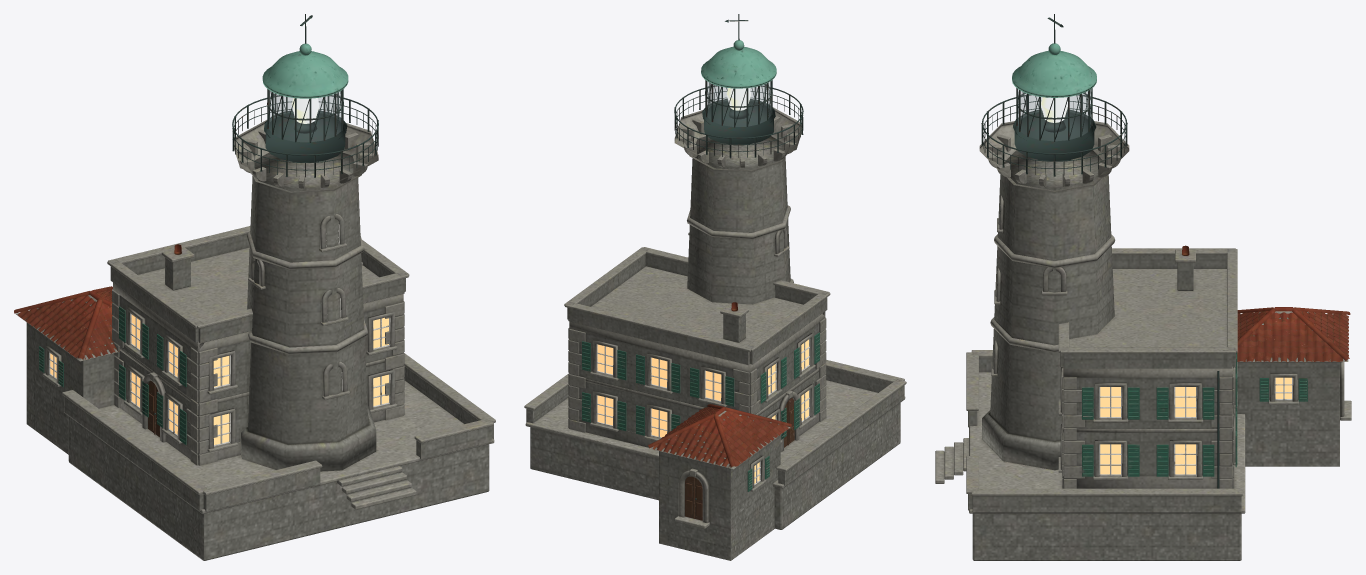
File: faro.glb
The picture shows the model from 3 angles, left to right: view 1: azimuth 30°, elevation 25°; view 2: azimuth 150°, elevation 25°; view 3: azimuth 270°, elevation 25°; orthographic projection. The views are drawn at different scales.
Visible parts, largest first — view 1: FaroStone, FaroPaint, FaroTile, FaroWindows, FaroLanternGlass; view 2: FaroStone, FaroPaint, FaroTile, FaroWindows, FaroLanternGlass; view 3: FaroStone, FaroPaint, FaroTile, FaroWindows, FaroLanternGlass, FaroLens.
Boxes of the visible parts, x1=… form: FaroStone: x1=16, y1=120, x2=495, y2=560; FaroPaint: x1=39, y1=14, x2=390, y2=446; FaroTile: x1=14, y1=244, x2=181, y2=359; FaroWindows: x1=50, y1=314, x2=388, y2=444; FaroLanternGlass: x1=269, y1=90, x2=340, y2=141; FaroStone: x1=524, y1=107, x2=906, y2=560; FaroPaint: x1=582, y1=14, x2=819, y2=520; FaroTile: x1=648, y1=302, x2=791, y2=467; FaroWindows: x1=597, y1=339, x2=808, y2=483; FaroLanternGlass: x1=707, y1=81, x2=770, y2=126; FaroStone: x1=935, y1=121, x2=1351, y2=560; FaroPaint: x1=981, y1=14, x2=1307, y2=488; FaroTile: x1=1182, y1=245, x2=1350, y2=362; FaroWindows: x1=1100, y1=377, x2=1291, y2=474; FaroLanternGlass: x1=1018, y1=89, x2=1090, y2=140; FaroLens: x1=1041, y1=97, x2=1067, y2=122.
Size of what is drawn, in the model's own units: 14.55 by 22.55 by 17.8.
6 materials, 3 textured.
